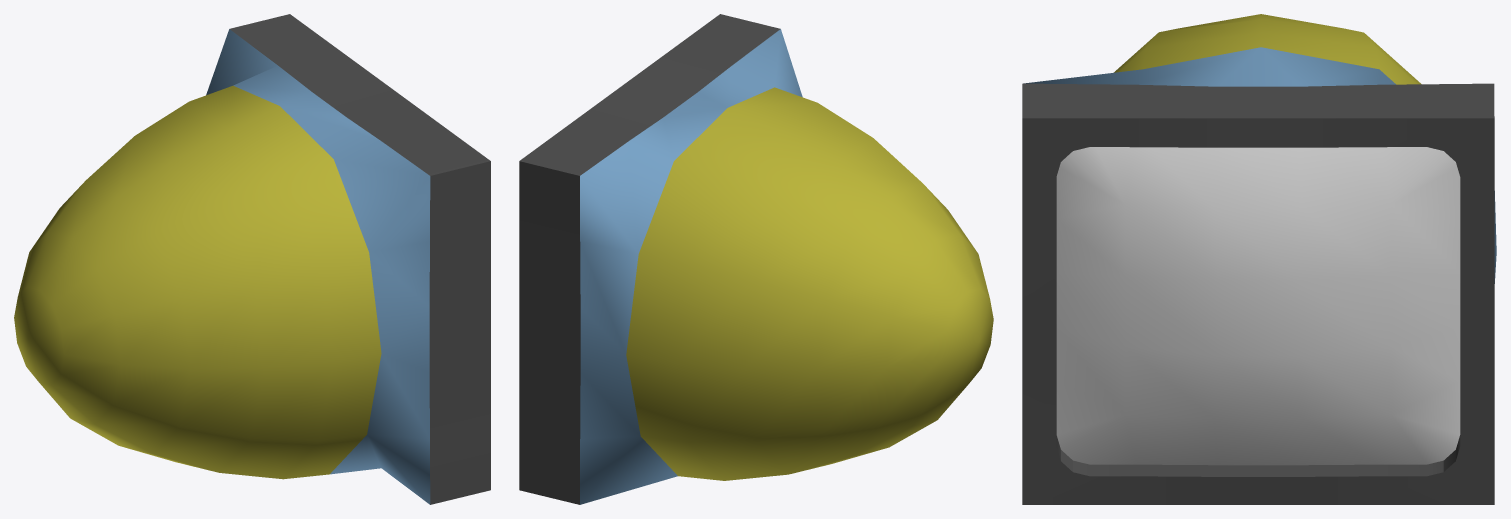
Rendered from Bullet_Tv.fbx.
3 renders of one model, left to right at view 1: azimuth 30°, elevation 25°; view 2: azimuth 150°, elevation 25°; view 3: azimuth 270°, elevation 25°, orthographic. The views are drawn at different scales.
Visible parts, largest first — view 1: Bullet_Tv; view 2: Bullet_Tv; view 3: Bullet_Tv.
Part boxes in pixels (x1,y1,x2,y2): Bullet_Tv: (14,14,490,504); Bullet_Tv: (519,14,993,504); Bullet_Tv: (1022,14,1496,504).
Bounding box in the file's own units: 86.01 × 78.48 × 80.72.
